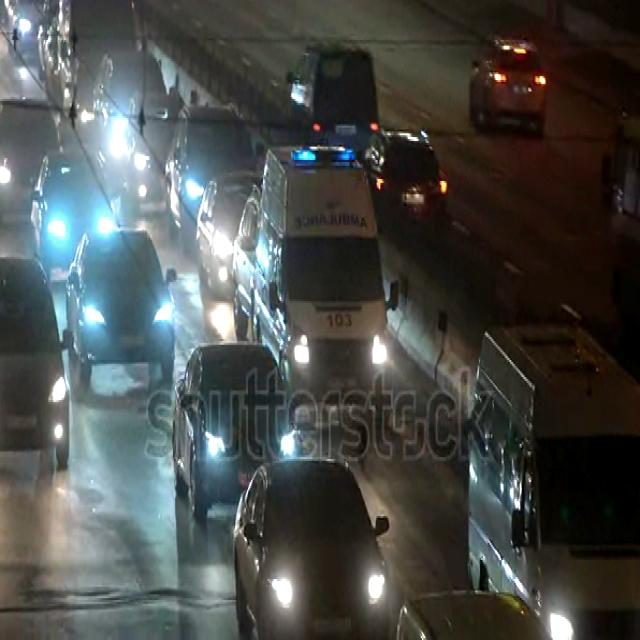ambulance: (255, 144, 400, 426)
